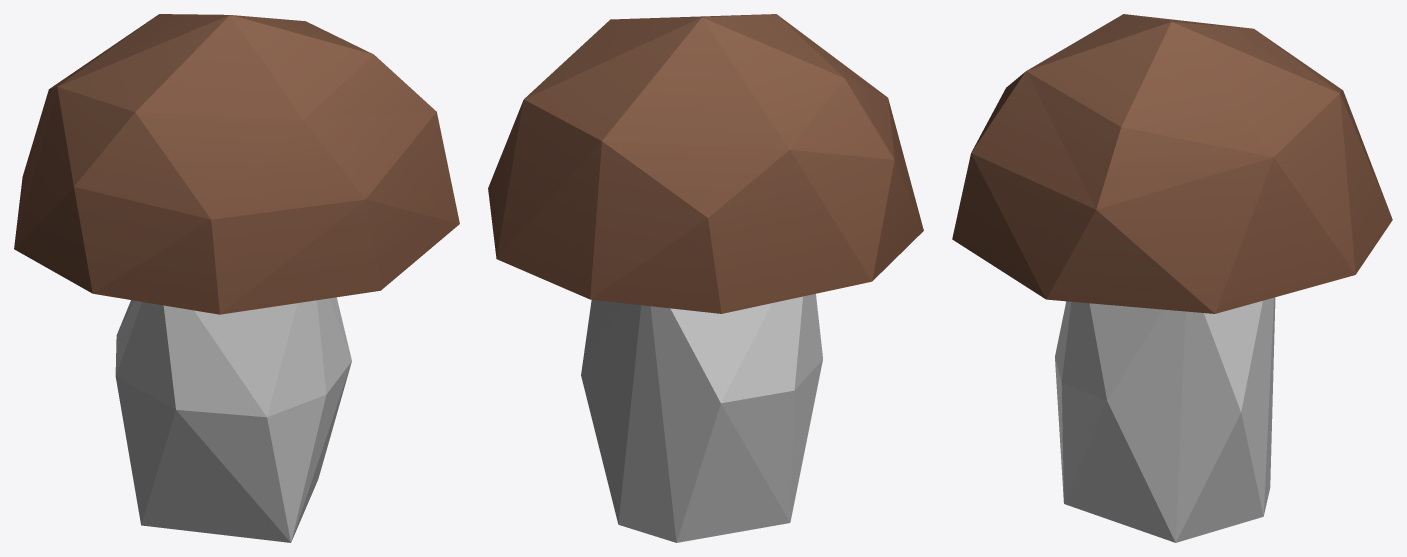
Rendered from Mushroom_02.fbx.
The picture shows the model from 3 angles, left to right: view 1: azimuth 30°, elevation 25°; view 2: azimuth 150°, elevation 25°; view 3: azimuth 270°, elevation 25°; orthographic projection. The views are drawn at different scales.
Visible parts, largest first — view 1: Mushroom_02_LOD0; view 2: Mushroom_02_LOD0; view 3: Mushroom_02_LOD0.
Part boxes in pixels (x1=…): Mushroom_02_LOD0: x1=14, y1=14, x2=459, y2=542; Mushroom_02_LOD0: x1=488, y1=14, x2=923, y2=542; Mushroom_02_LOD0: x1=952, y1=14, x2=1392, y2=542.
Size of what is drawn, in the model's own units: 15.86 by 19.12 by 15.93.
